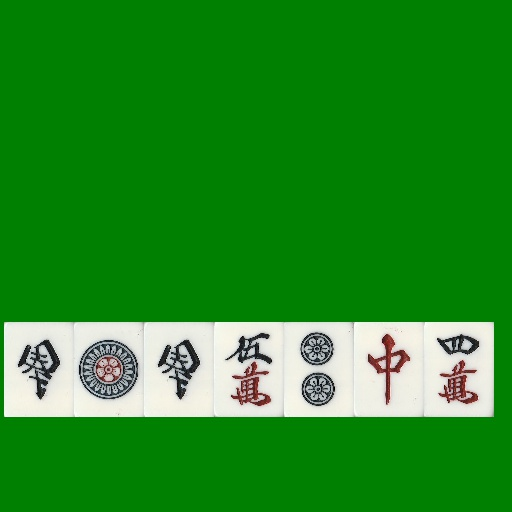1p: (74, 322, 144, 417)
2p: (284, 322, 354, 417)
4m: (424, 322, 494, 417)
5m: (214, 322, 284, 417)
south: (4, 322, 74, 417), (144, 322, 214, 417)
tyun: (354, 322, 424, 417)
